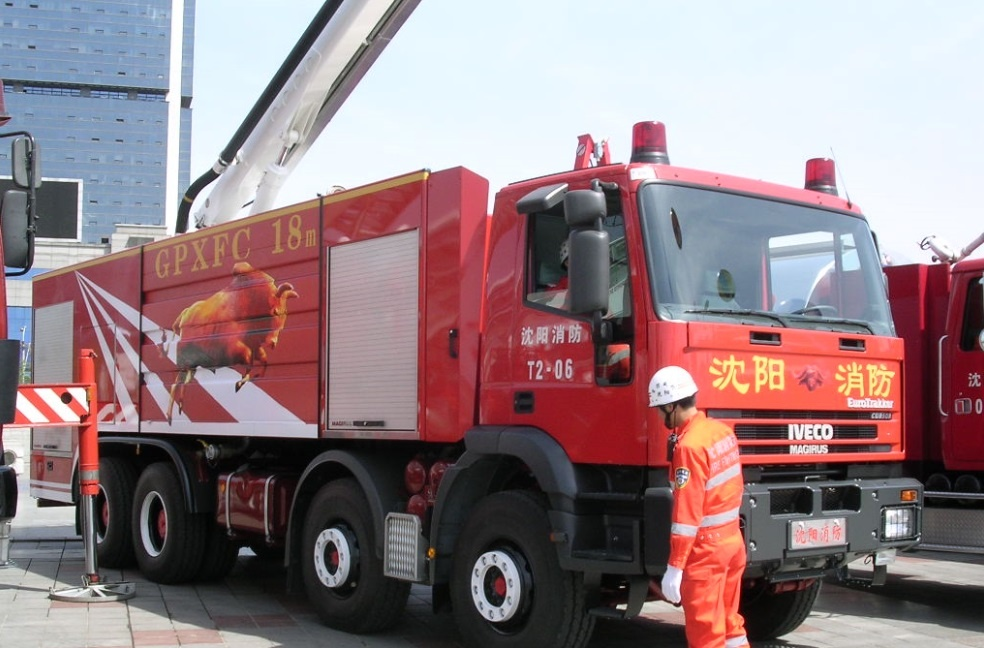fire engine: (30, 168, 919, 630)
